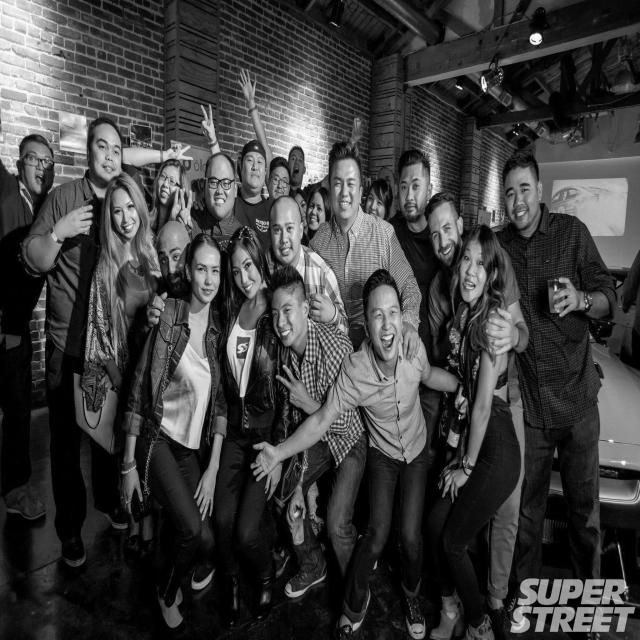person: (42, 132, 166, 601), (492, 145, 618, 598), (312, 275, 447, 637), (118, 235, 236, 633), (242, 262, 358, 629), (1, 132, 87, 591), (309, 148, 423, 345)
